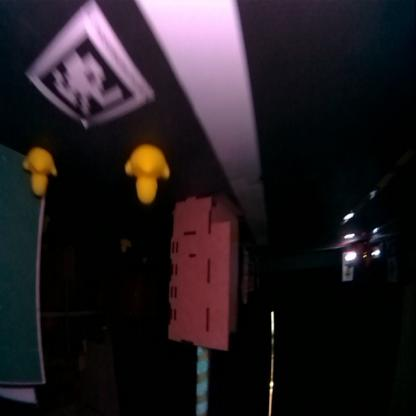Duckie: (126, 149, 168, 205), (23, 149, 55, 195)
Duckiebot: (344, 243, 379, 268)
QR code: (30, 16, 154, 130)
